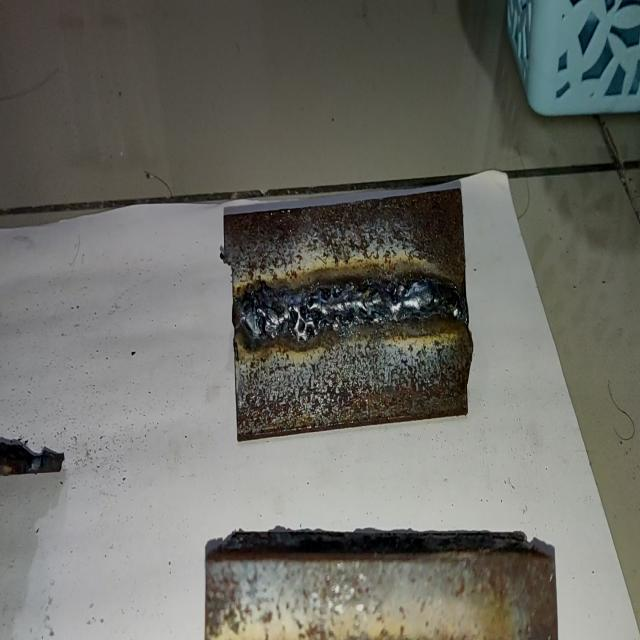Defect: (233, 270, 408, 352)
Welding Line: (237, 270, 463, 344)
Workpiece: (226, 187, 469, 446)
